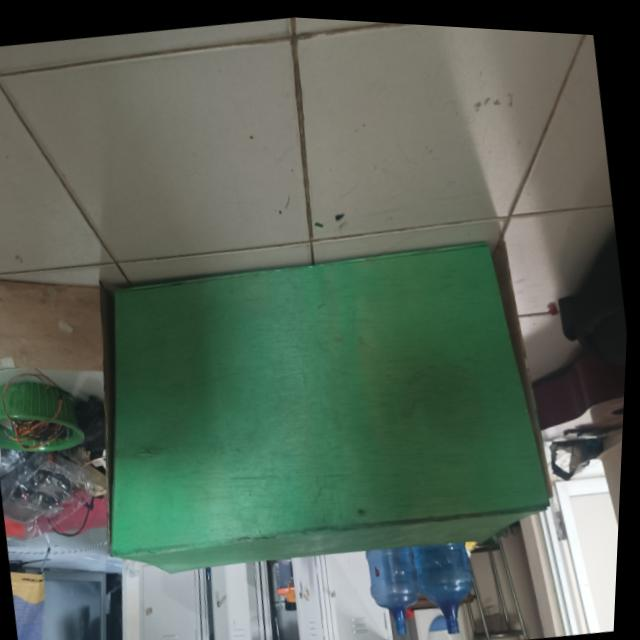green_box: (39, 147, 601, 640)
